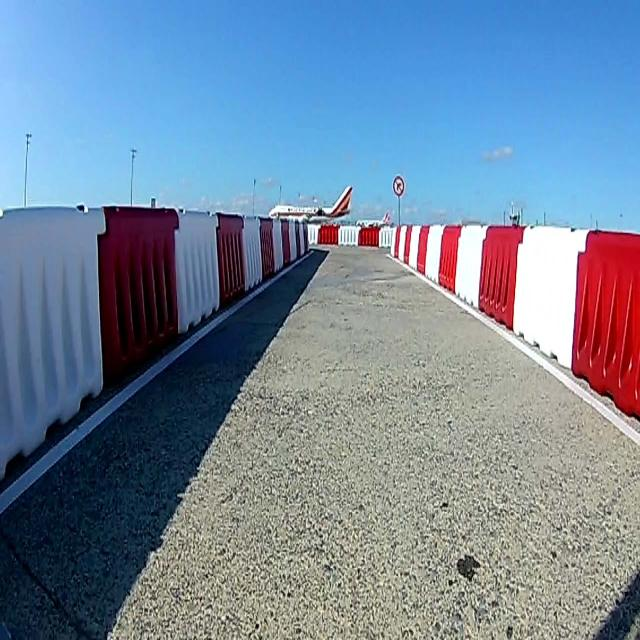sagadonulmez: (393, 176, 405, 196)
